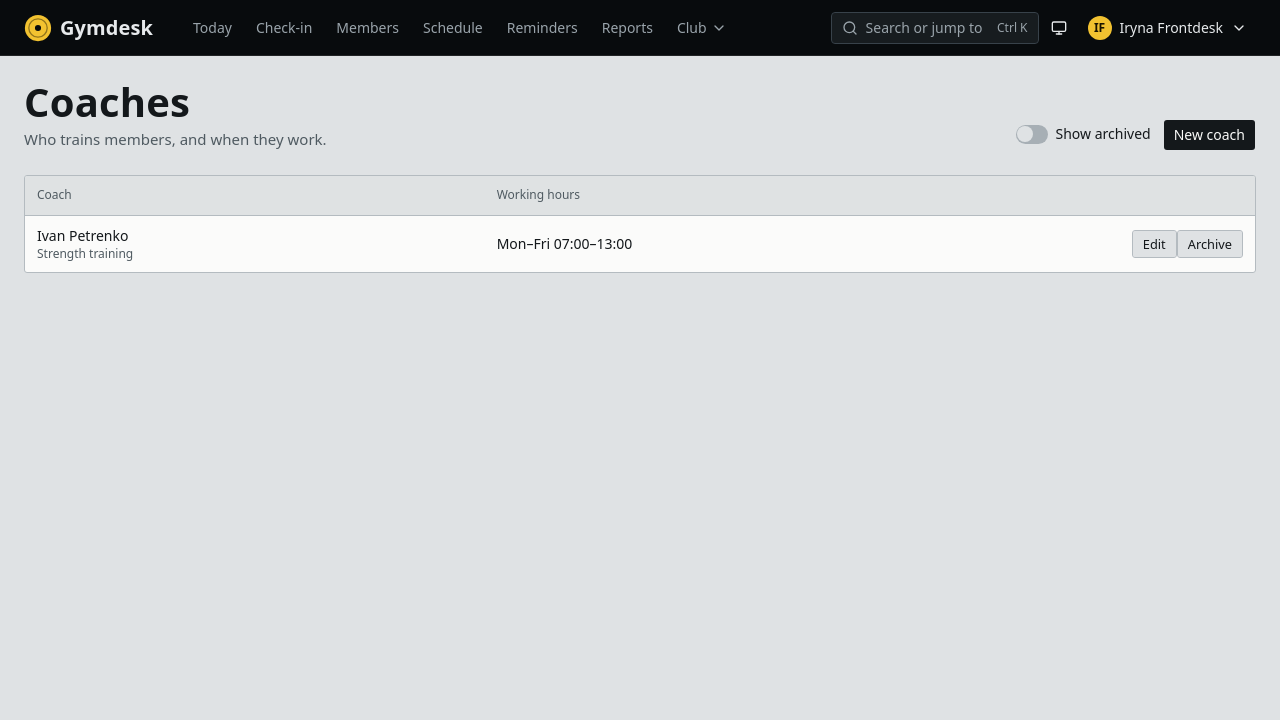
Test case: adding a coach › sends the coach with the working hours they were given
The image size is (1280, 720).
Expected: the heading "Coaches" is shown, [24,74,190,129]
Expected: the link "Ivan Petrenko" is shown, [37,226,128,245]
Click the button "New coach". click: (1209,134)
box: [1163,118,1256,150]
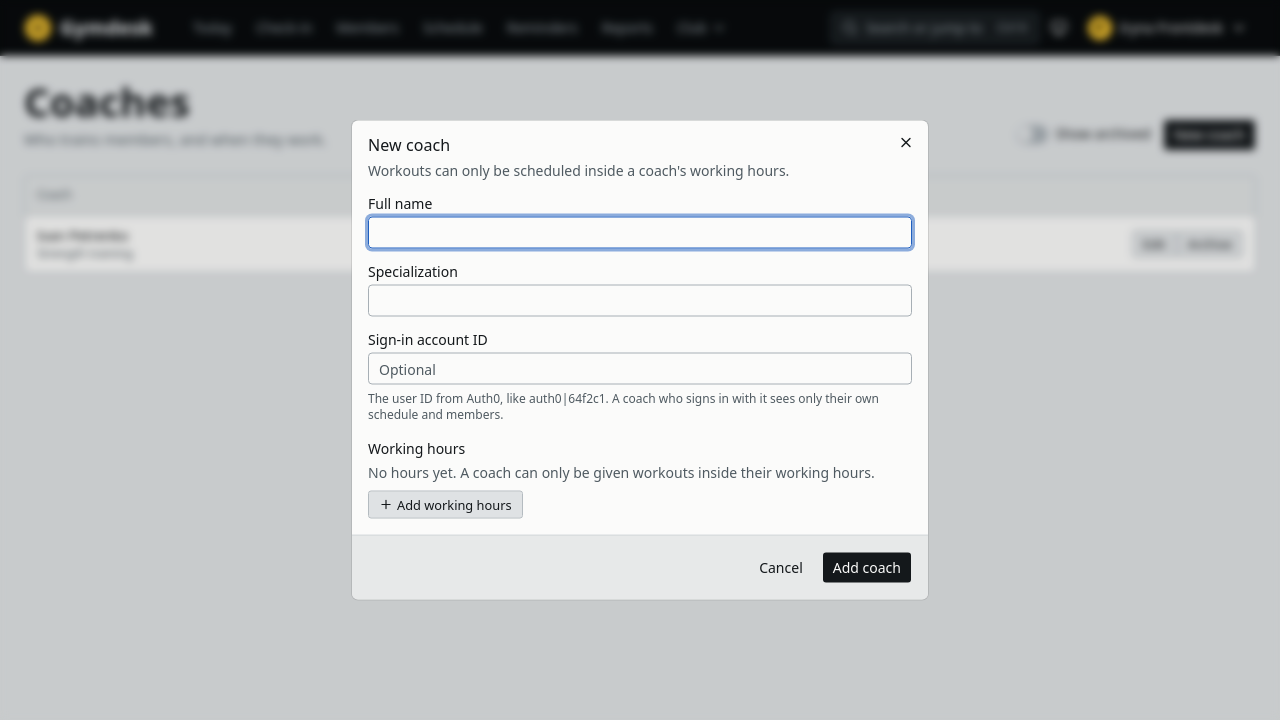
Type "Sofiia Marchuk" into the field labelled "Full name". click: (640,232)
box: [368,216,912,248]
Type "Boxing" into the field labelled "Specialization". click: (640,300)
box: [368,284,912,316]
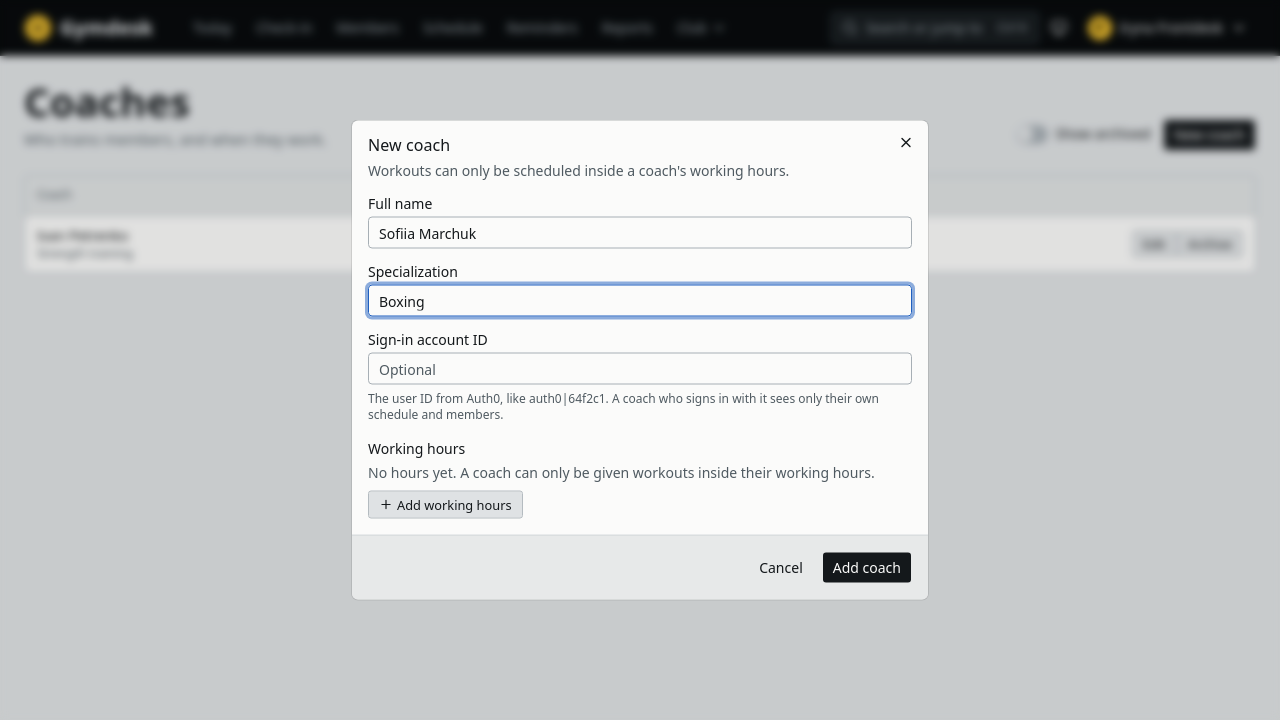
Click the button "Add working hours". click: (445,504)
box: [368,490,522,518]
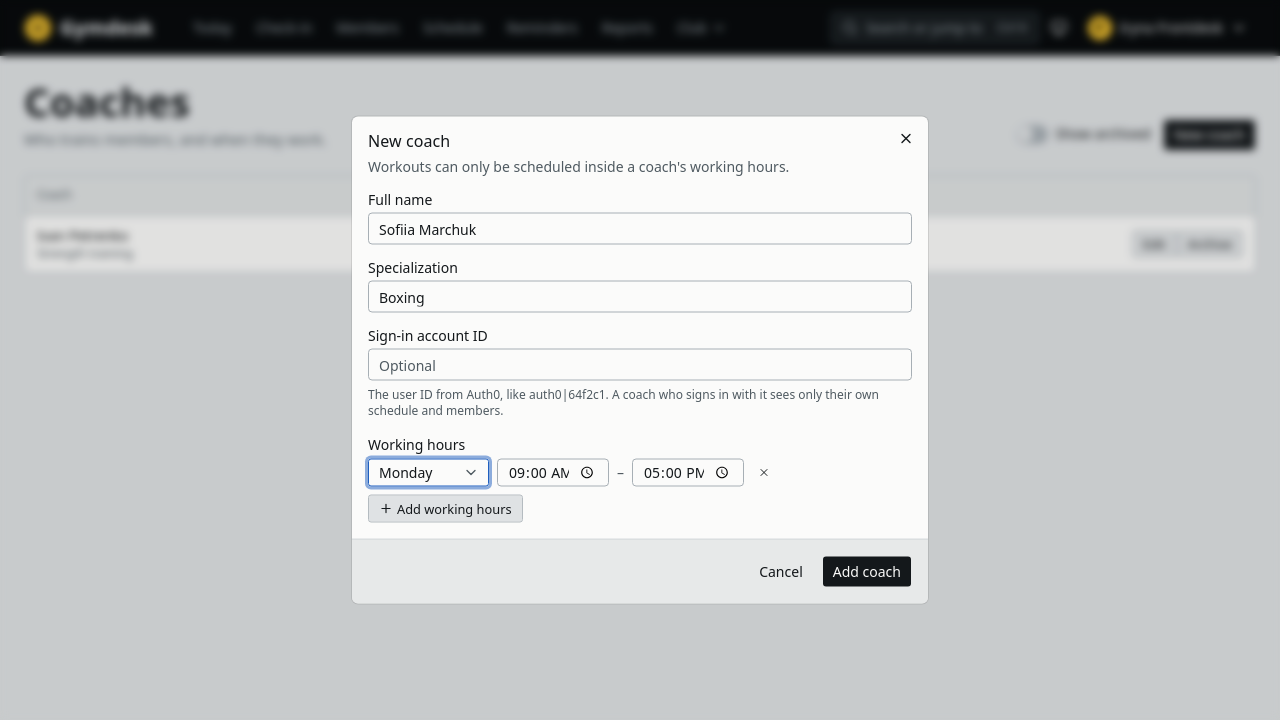
Select "Thursday" in the dropdown named "Day for window 1". click: (428,472)
box: [368,458,489,486]
Replace the text in the time field named "Start of window 1" with "16:00". click: (553,472)
box: [497,458,609,486]
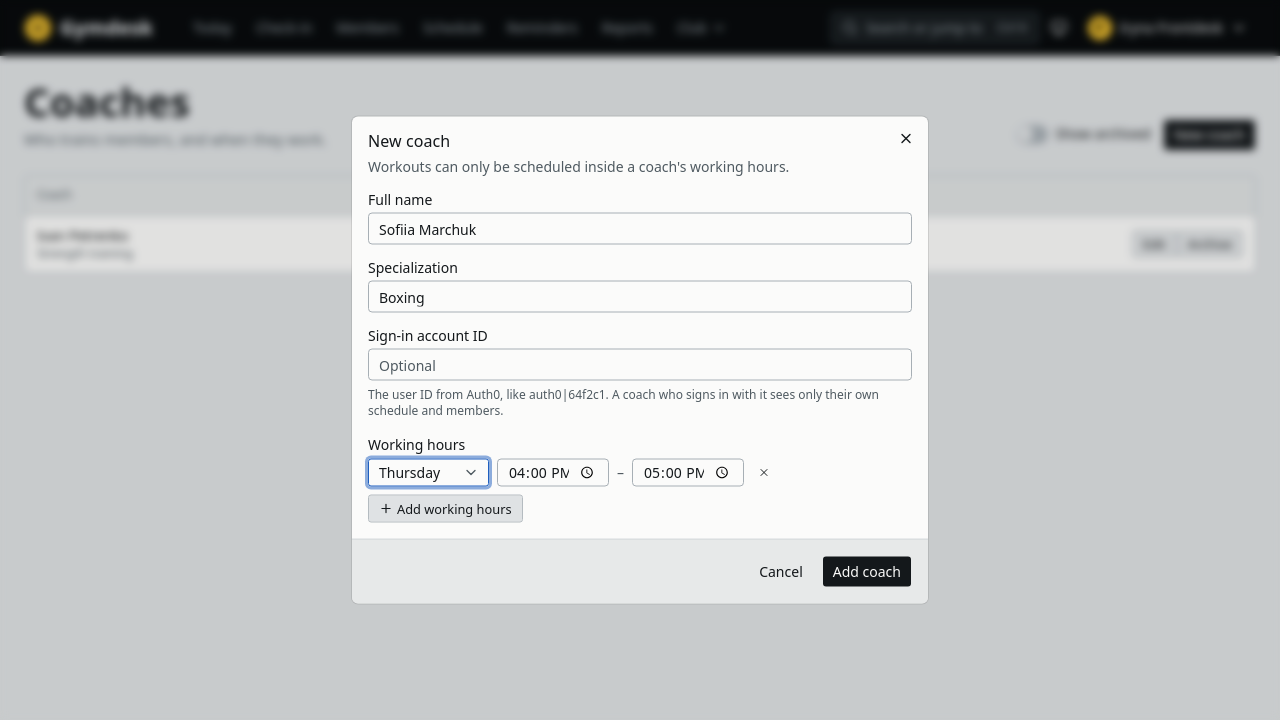
Replace the text in the time field named "End of window 1" with "21:00". click: (688,472)
box: [632,458,744,486]
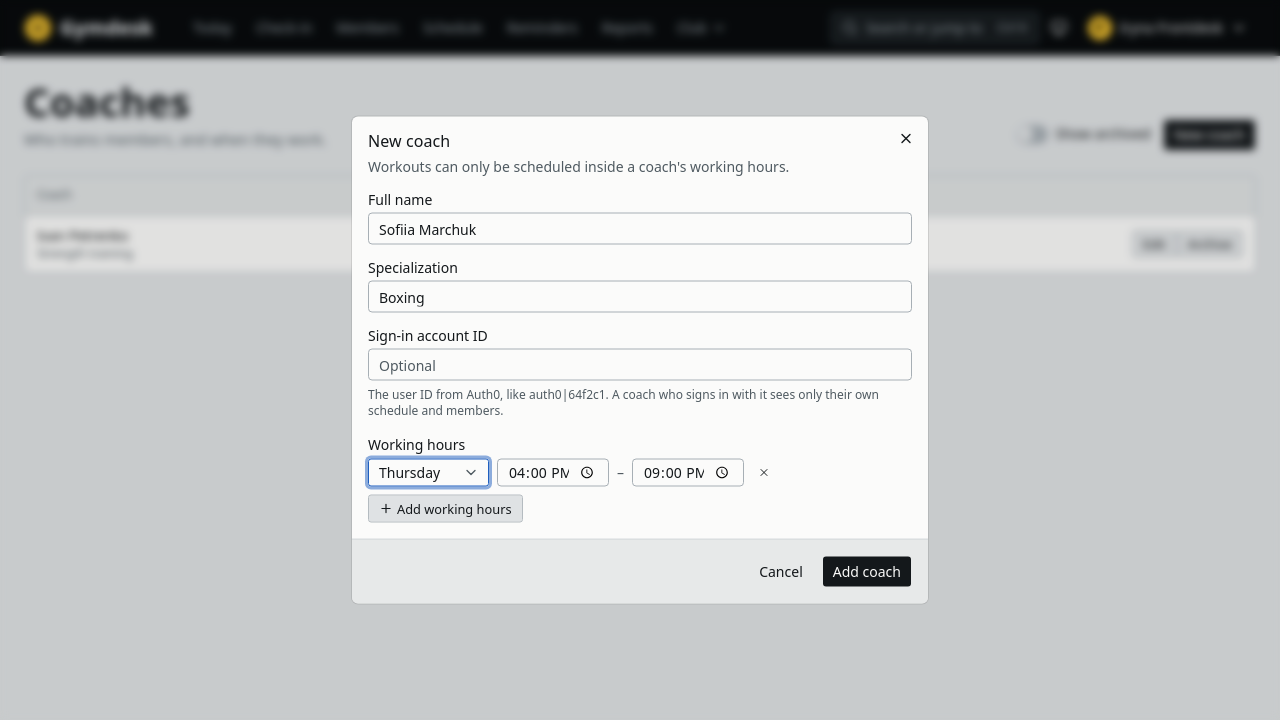
Click the button "Add coach". click: (867,572)
box: [822,556,912,588]
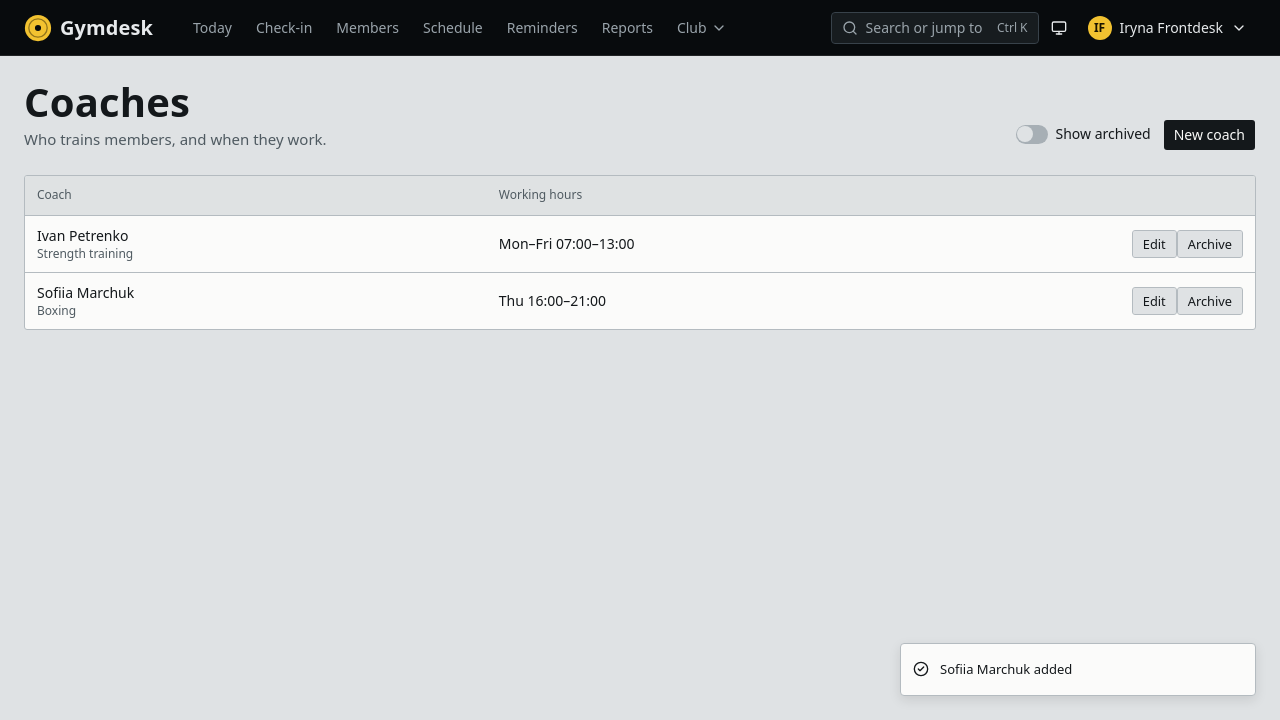
Expected: the text "Sofiia Marchuk added" is shown, [940,660,1072,679]
